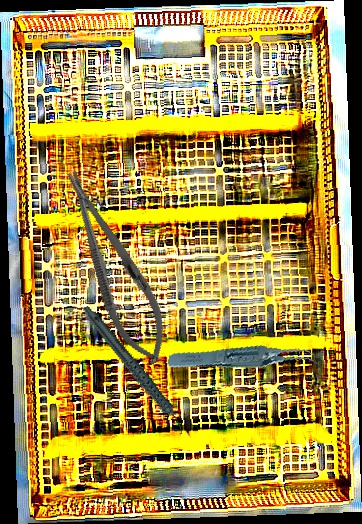Handpiece: (81, 290, 187, 451)
Needle Holder: (48, 161, 182, 373)
Tissue Forceps: (166, 322, 322, 399)
